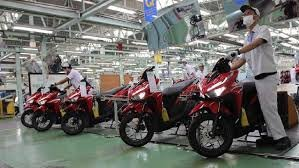motor: (197, 59, 260, 149), (124, 66, 188, 141)
